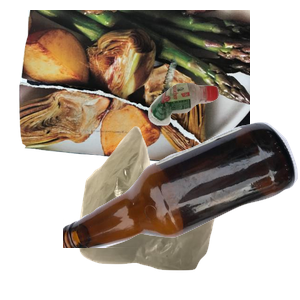glass: (63, 120, 300, 300)
paper: (16, 10, 256, 172)
plastic: (146, 80, 300, 198)
trash: (76, 124, 287, 300)
